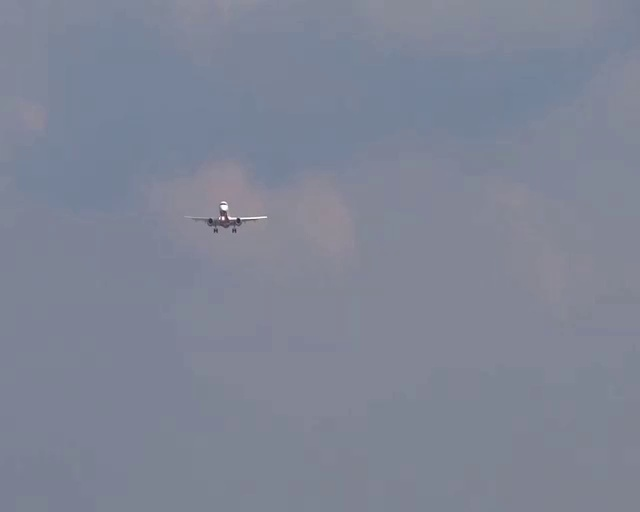AIRPLANE: (185, 201, 269, 233)
